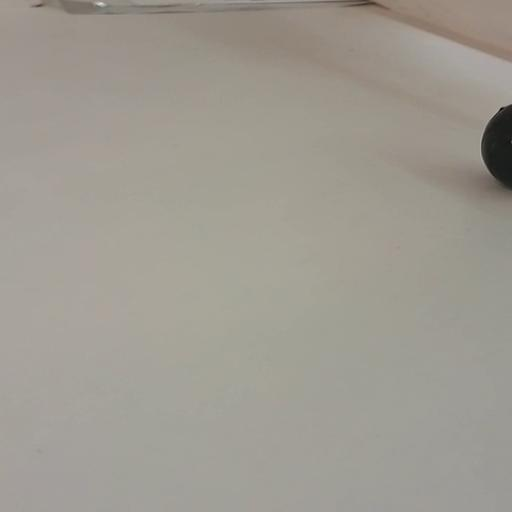dead: (477, 90, 509, 188)
